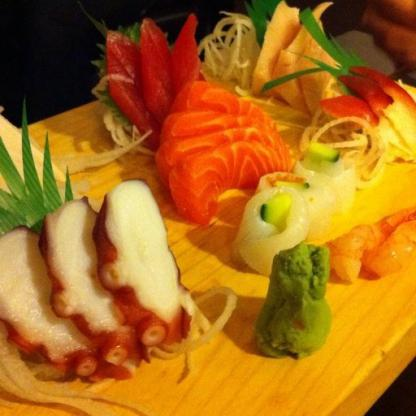salmon: (164, 84, 290, 214)
